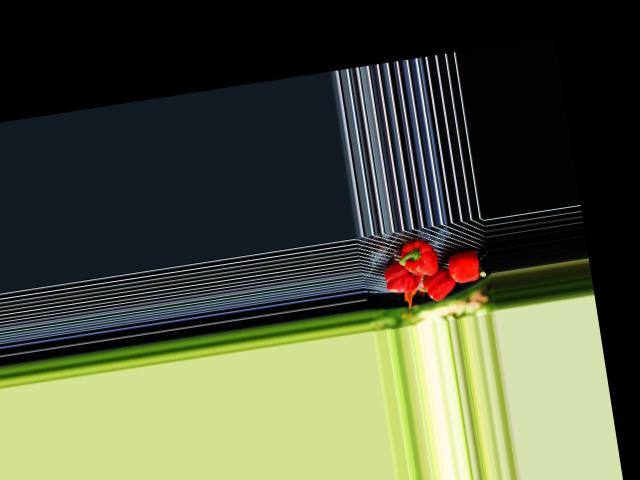bell_pepper: (382, 260, 422, 296)
